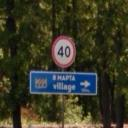speed_limit_40: (50, 34, 79, 69)
